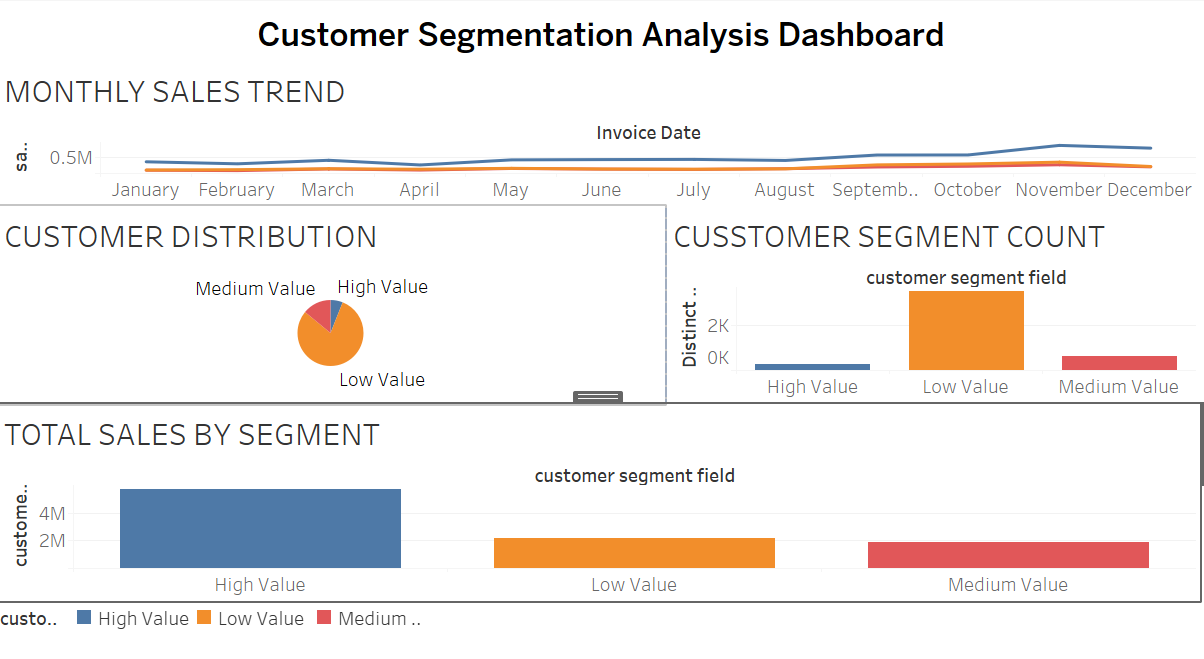

Layout of this report page (visuals, bound fields, positions):
{"tool":"tableau","page":{"name":"Dashboard 2","canvas":[1000,1000],"units":"permille","ordinal":1},"visuals":[{"type":"text","box":[6.6,12.1,986.9,78.8]},{"type":"worksheet","title":"MONTHLY SALES TREND","mark":"Automatic","rows":["Calculation_1973984027507437570"],"cols":["InvoiceDate"],"box":[6.6,90.9,986.9,220.2]},{"type":"worksheet","title":"CUSTOMER DISTRIBUTION","mark":"Pie","box":[6.6,311.1,548.4,299]},{"type":"worksheet","title":"CUSSTOMER SEGMENT COUNT","mark":"Automatic","rows":["CustomerID"],"cols":["Calculation_1973984027507892228"],"box":[554.9,311.1,438.5,299]},{"type":"worksheet","title":"TOTAL SALES BY SEGMENT ","mark":"Automatic","rows":["Calculation_1973984027507593219"],"cols":["Calculation_1973984027507892228"],"box":[6.6,610.1,986.9,299]},{"type":"legend","title":"MONTHLY SALES TREND","param":"[federated.1y7qz2n05lyxmg1esoc4p00fss4j].[none:Calculation_1973984027507892228:n","box":[6.6,909.1,986.9,78.8]}]}

Visuals, with their boxes on the dashboard's canvas, which has no fixed pixel size, in thousandths of its width and height (x1, y1, x2, y2). These are canvas units, not pixel positions in the 1204x659 screenshot, which may show the page scaled, cropped or inside an application window:
text: locate(7, 12, 994, 91)
"MONTHLY SALES TREND" worksheet: locate(7, 91, 994, 311)
"CUSTOMER DISTRIBUTION" worksheet (Pie marks): locate(7, 311, 555, 610)
"CUSSTOMER SEGMENT COUNT" worksheet: locate(555, 311, 993, 610)
"TOTAL SALES BY SEGMENT " worksheet: locate(7, 610, 994, 909)
"MONTHLY SALES TREND" legend: locate(7, 909, 994, 988)
